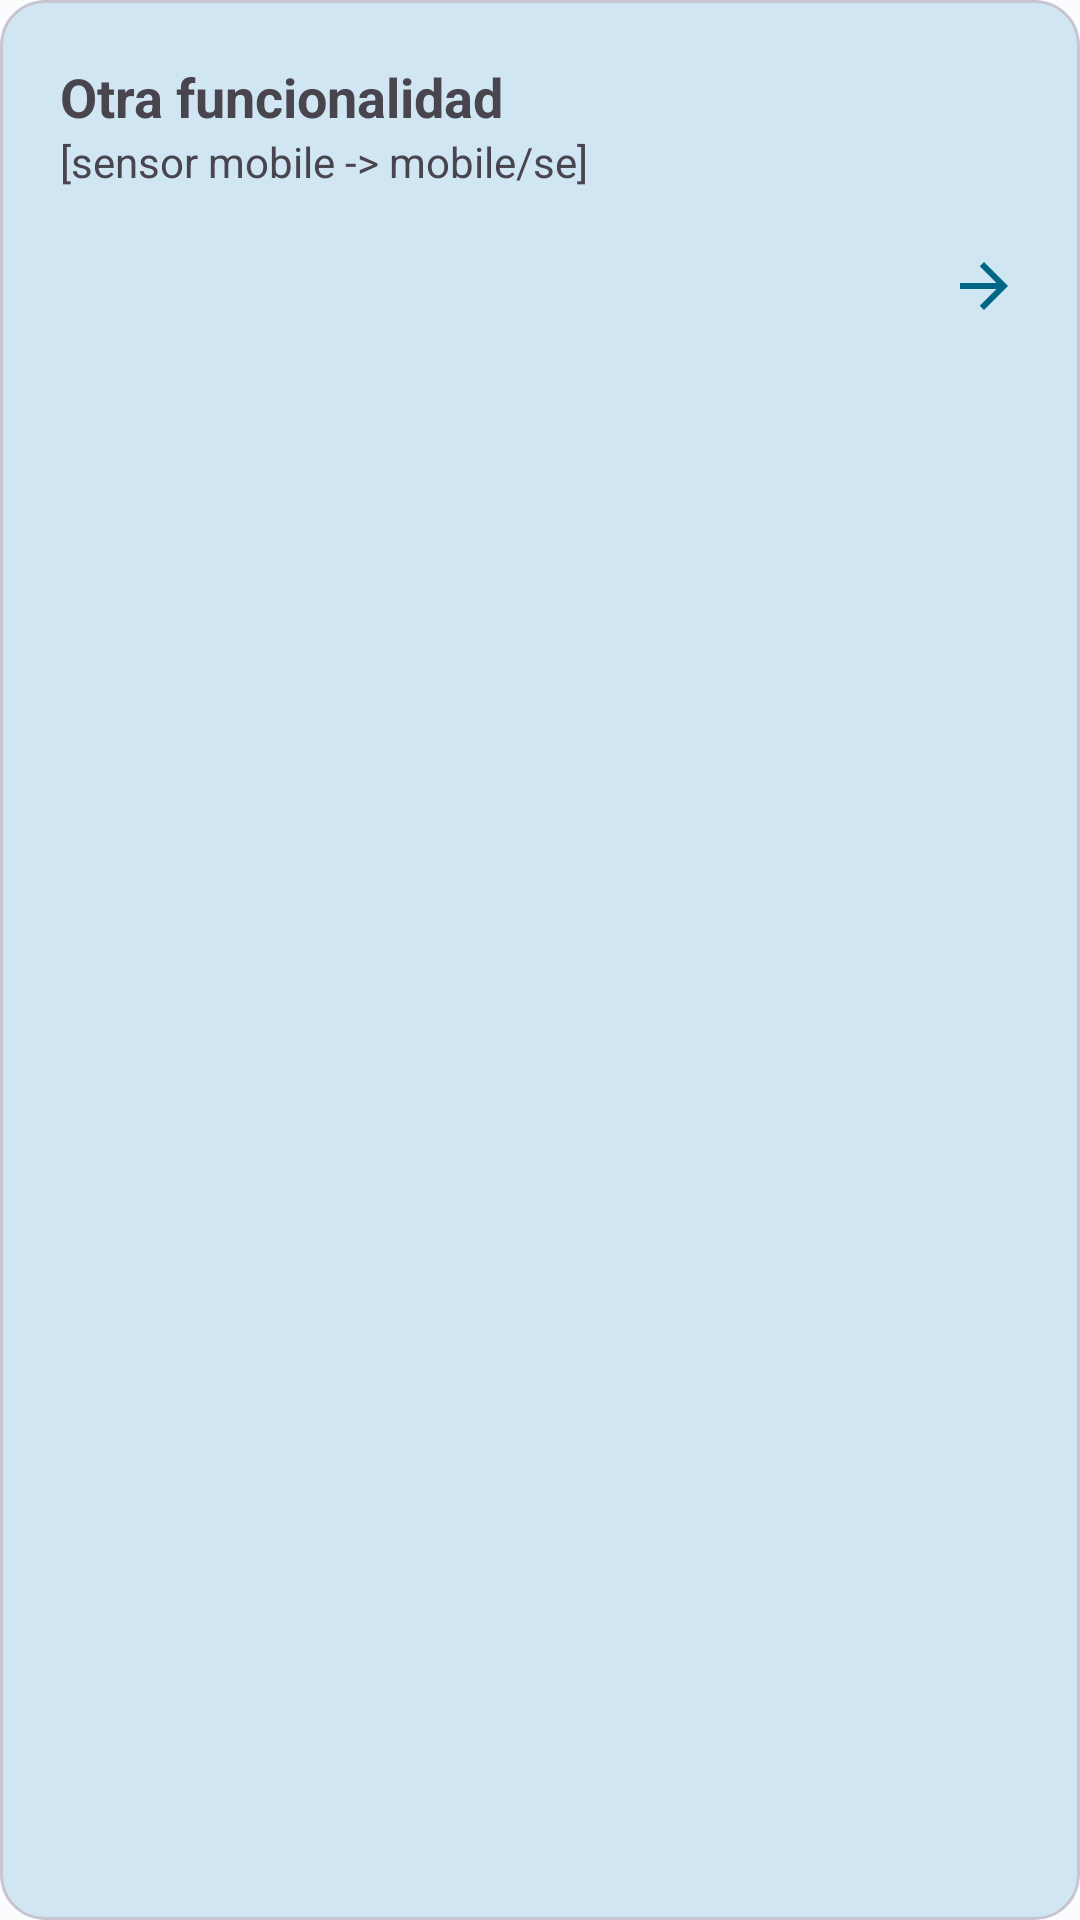

Where to tap for icons on this 1080 × 1920 app screen, as [x,y]:
next: [984,286]
